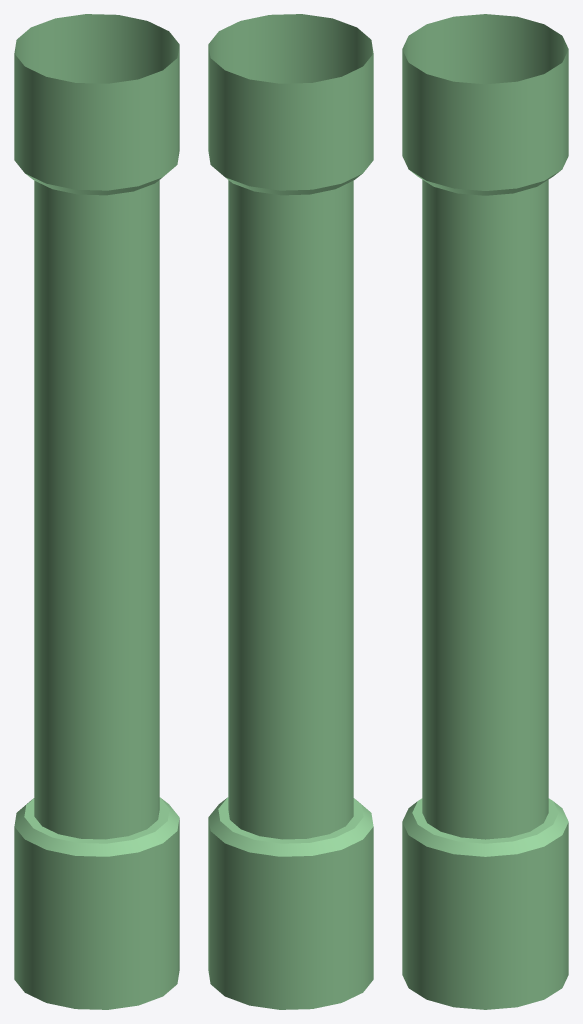
File: Pipe_Pillar.fbx
The picture shows the model from 3 angles, left to right: view 1: azimuth 30°, elevation 25°; view 2: azimuth 150°, elevation 25°; view 3: azimuth 270°, elevation 25°; orthographic projection.
Parts seen in each view (by area): view 1: Pipe_Pillar; view 2: Pipe_Pillar; view 3: Pipe_Pillar.
Part boxes in pixels (x1,y1,x2,y2): Pipe_Pillar: (14,14,179,1009); Pipe_Pillar: (208,14,373,1009); Pipe_Pillar: (402,14,568,1009).
Bounding box in the file's own units: 0.6587 × 4.04 × 0.6587.
